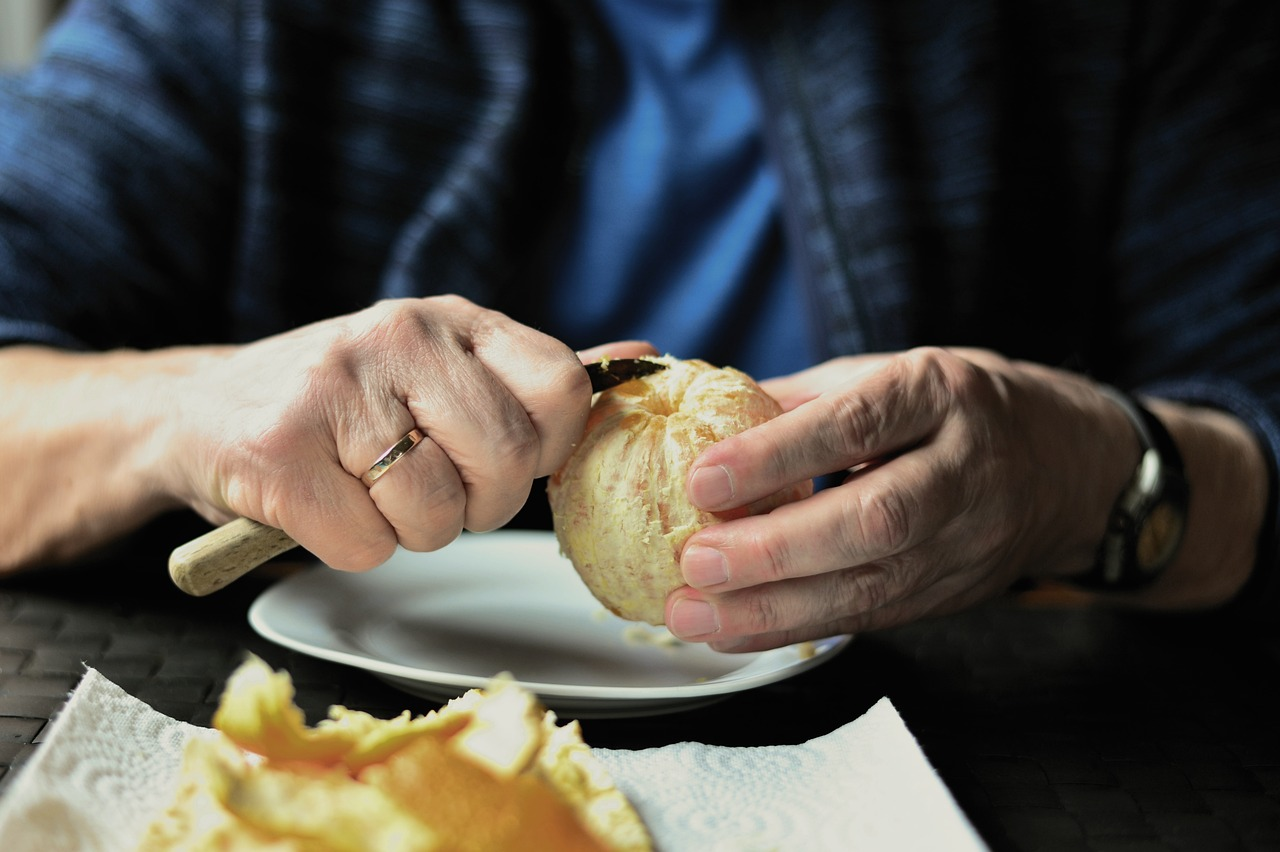knife: (162, 349, 692, 602)
